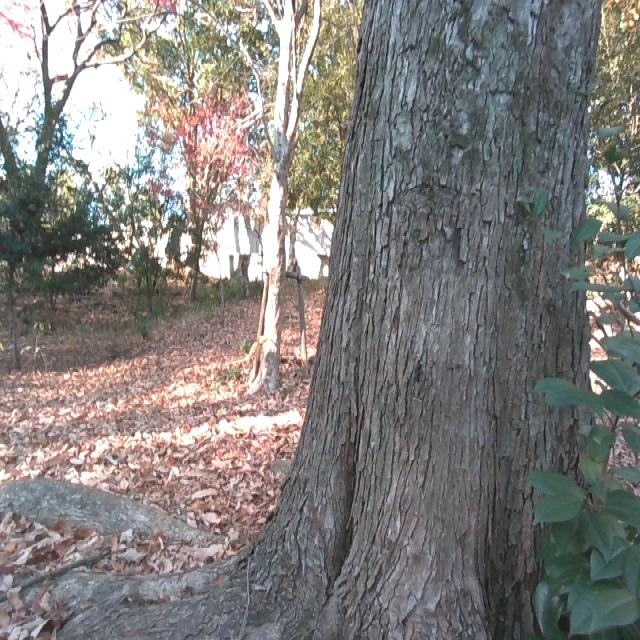bush: (526, 107, 640, 640)
tree: (173, 0, 610, 640), (0, 0, 136, 325), (219, 0, 330, 383)
